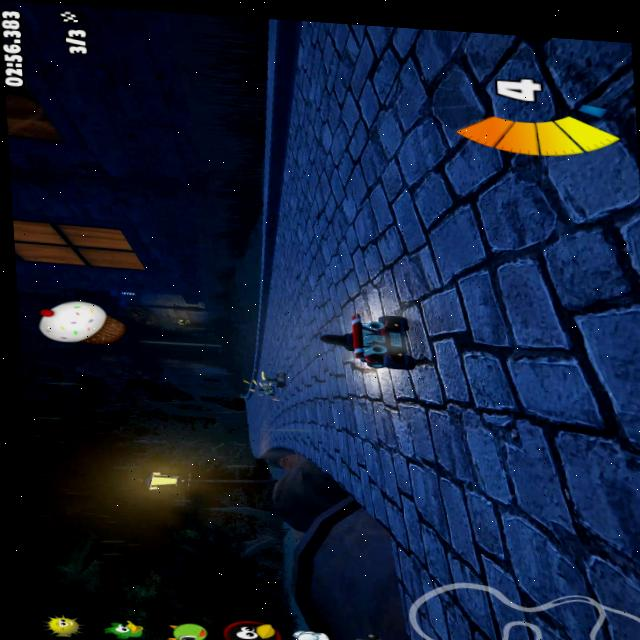player_kart: (318, 300, 451, 388)
